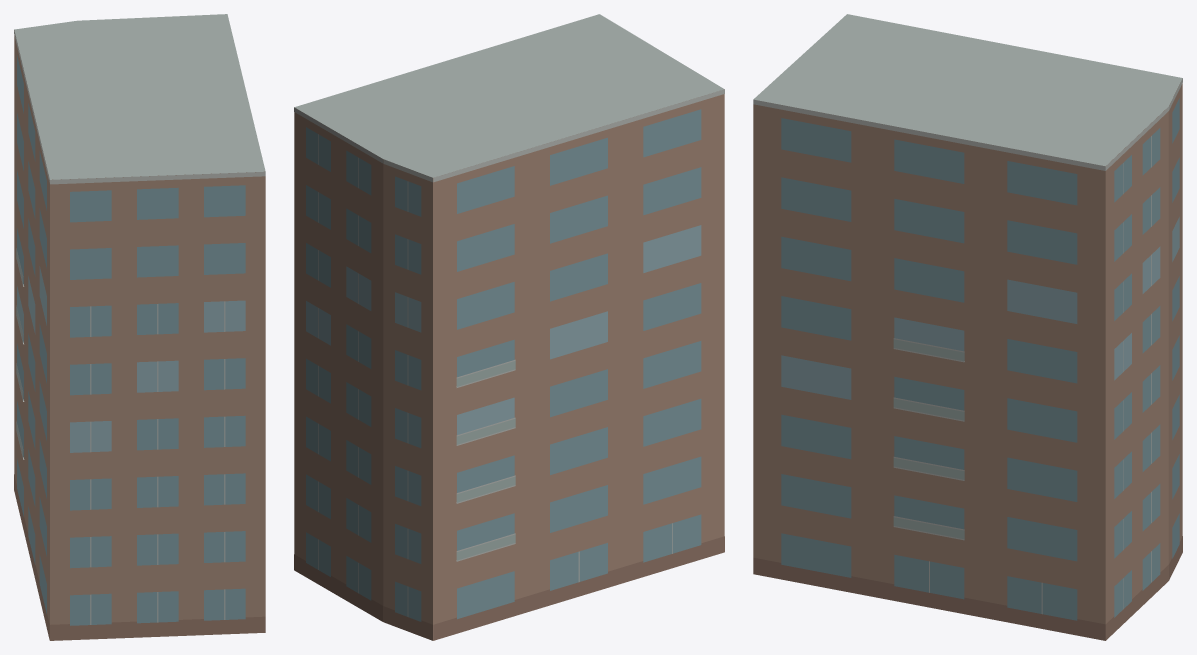
File: survey-upis-32976334.glb
3 renders of one model, left to right at view 1: azimuth 30°, elevation 25°; view 2: azimuth 150°, elevation 25°; view 3: azimuth 270°, elevation 25°, orthographic. The views are drawn at different scales.
Visible parts, largest first — view 1: survey-upis-32976334.tmp; view 2: survey-upis-32976334.tmp; view 3: survey-upis-32976334.tmp.
Boxes of the visible parts, box(x1,y1,x2,y2) form: survey-upis-32976334.tmp: box(14, 14, 265, 640); survey-upis-32976334.tmp: box(294, 14, 724, 640); survey-upis-32976334.tmp: box(753, 14, 1182, 640).
Size of the model in its own units: 16.8 by 24.4 by 20.02.
